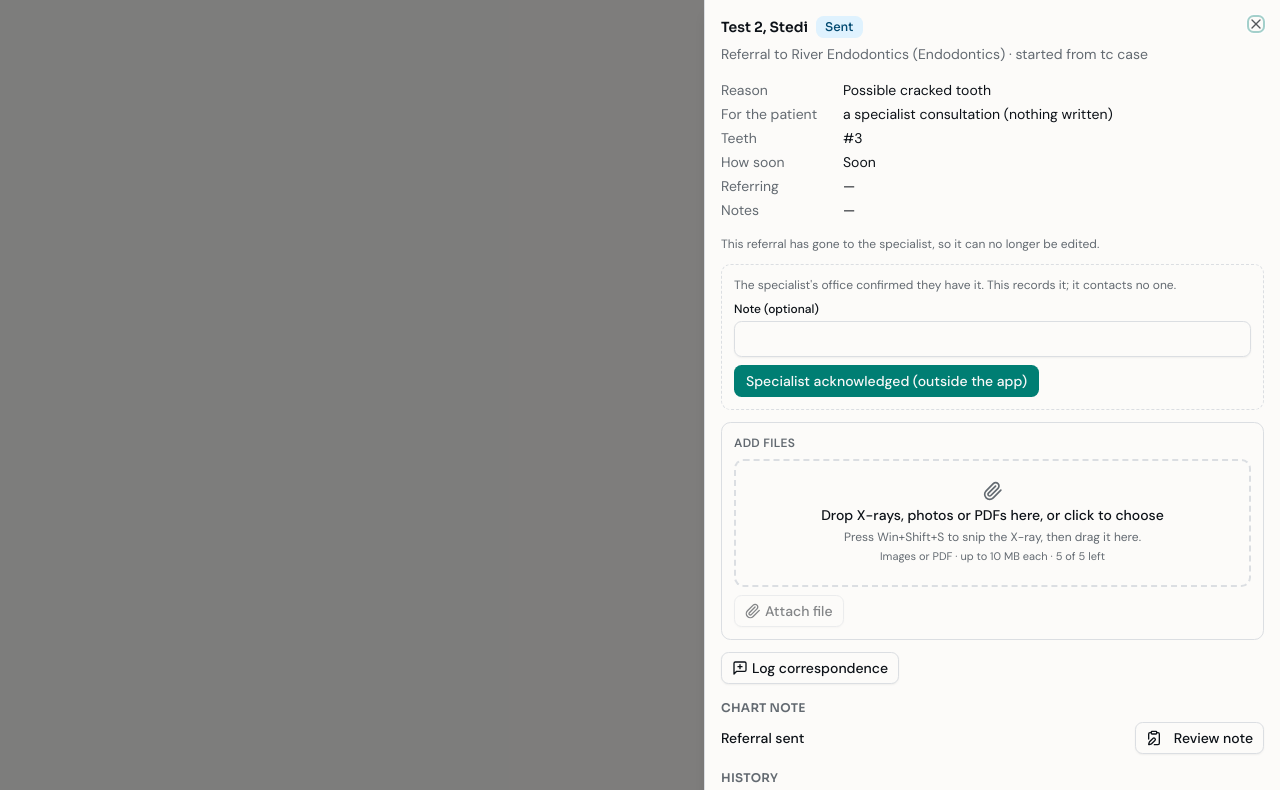
Test: 3: who sees the section, where › a detail read that does not say: disabled, fail closed
Expected: the heading "History" is shown, [721,770,778,785]
Click the button with test id "tc-chart-note-sent-review": (1199, 738) [1135,722,1264,754]
(page scrolled)
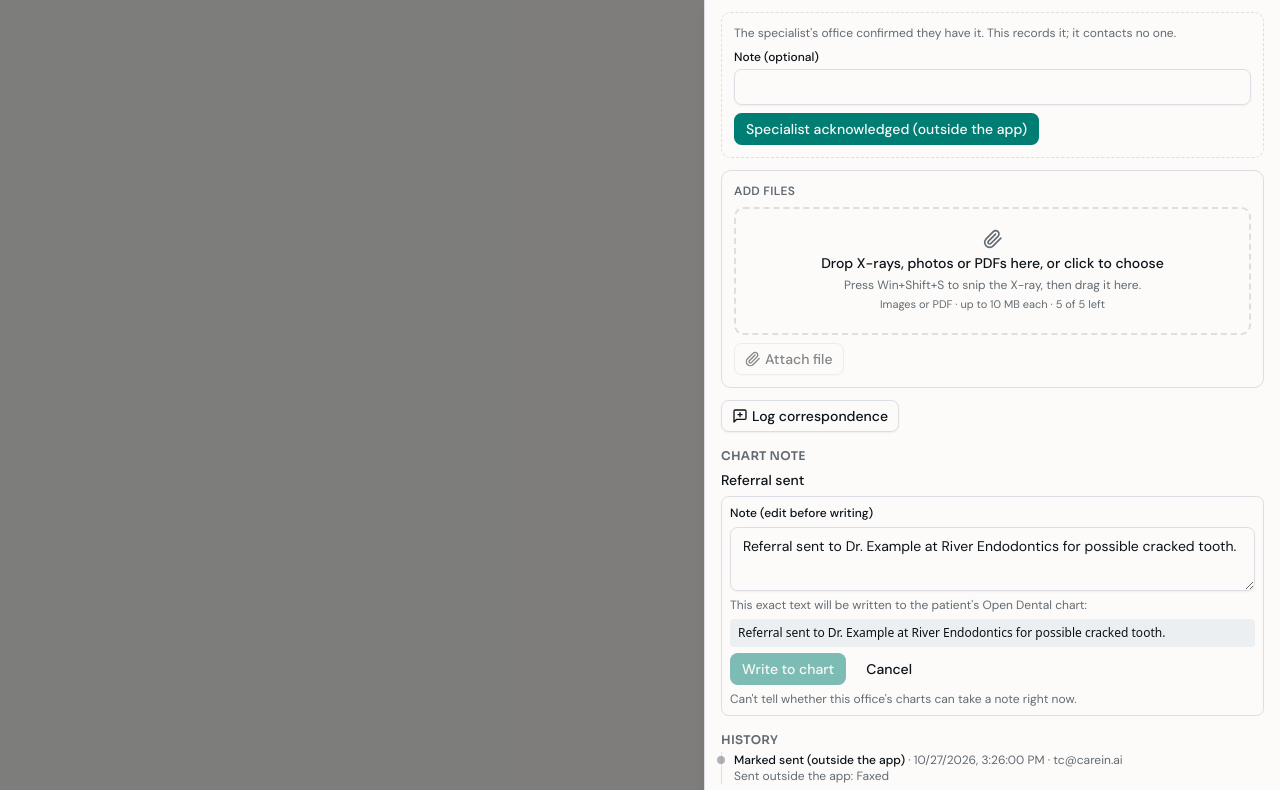
Now the button with test id "tc-chart-note-sent-write" is disabled, box [730,653,846,685]
Now the text with test id "tc-chart-note-sent-blocked" reads "Can't tell whether this office's charts can take a note right now.", box [730,691,1076,707]
